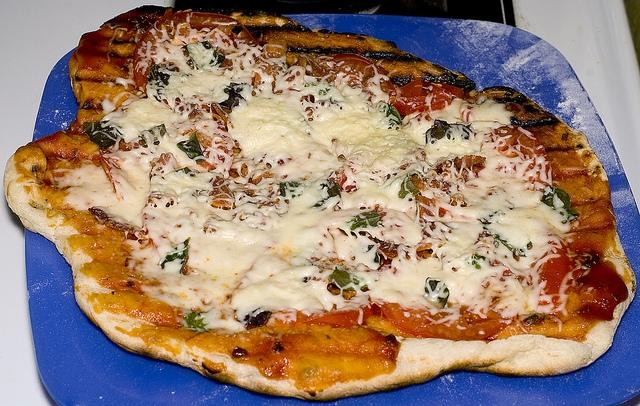tomato: (132, 8, 259, 94), (494, 126, 552, 180), (327, 54, 392, 88), (539, 241, 573, 295), (302, 303, 374, 328), (422, 80, 451, 111), (400, 77, 422, 98), (413, 102, 427, 110)
